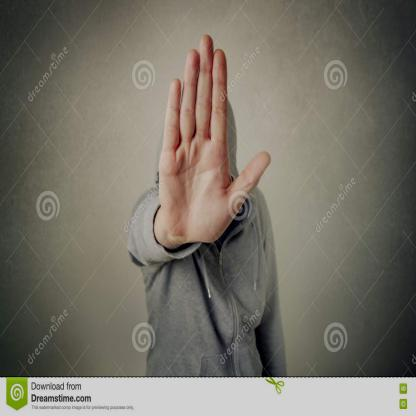Stop: (157, 38, 253, 250)
